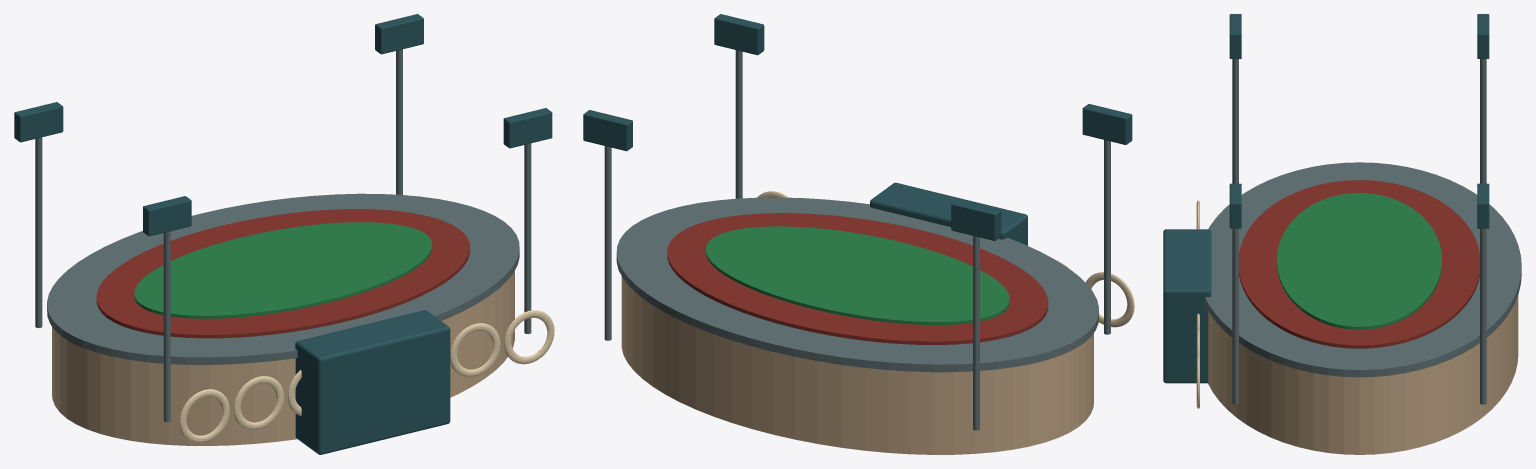
Rendered from paris-stadium.glb.
The picture shows the model from 3 angles, left to right: view 1: azimuth 30°, elevation 25°; view 2: azimuth 150°, elevation 25°; view 3: azimuth 270°, elevation 25°; orthographic projection. The views are drawn at different scales.
Visible parts, largest first — view 1: Optimized Paris landmark; view 2: Optimized Paris landmark; view 3: Optimized Paris landmark.
Boxes of the visible parts, x1,y1,x2,y2 form: Optimized Paris landmark: [14, 14, 554, 454]; Optimized Paris landmark: [583, 14, 1134, 454]; Optimized Paris landmark: [1163, 14, 1521, 454].
Size of the model in its own units: 14.7 by 8.07 by 10.72.
